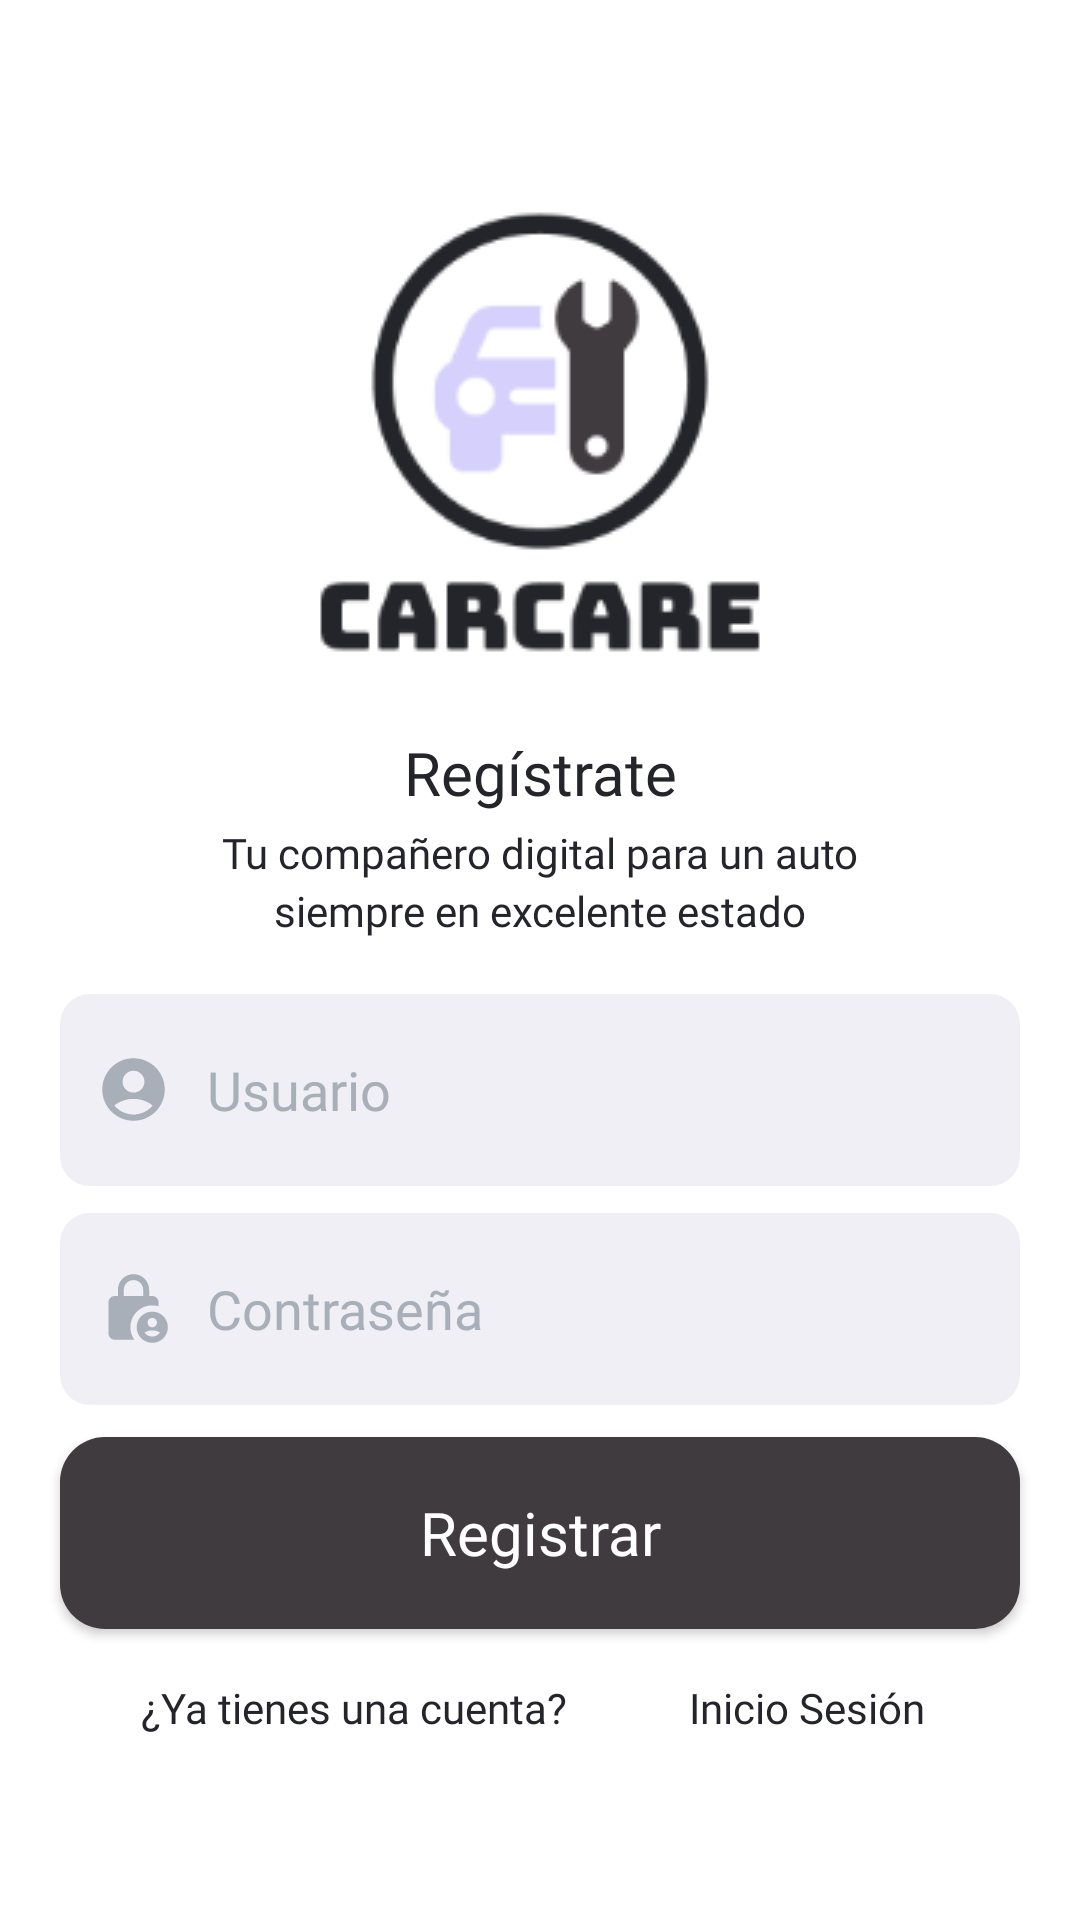

Point at icon controls on the screen. Image size 1080 × 1920, points as (x,y).
Icono de Contraseña: (138,1308)
